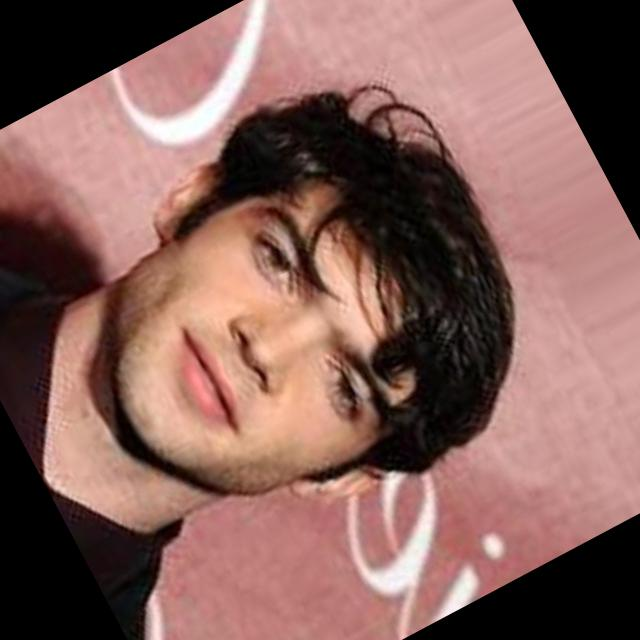bareface: (64, 90, 552, 538)
